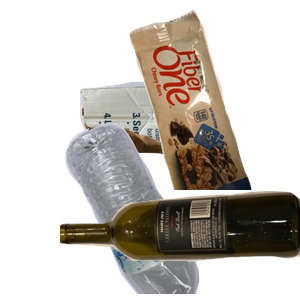cardboard: (77, 79, 251, 227)
glass: (60, 189, 300, 300)
plastic: (63, 120, 263, 300)
trash: (127, 10, 300, 190)
